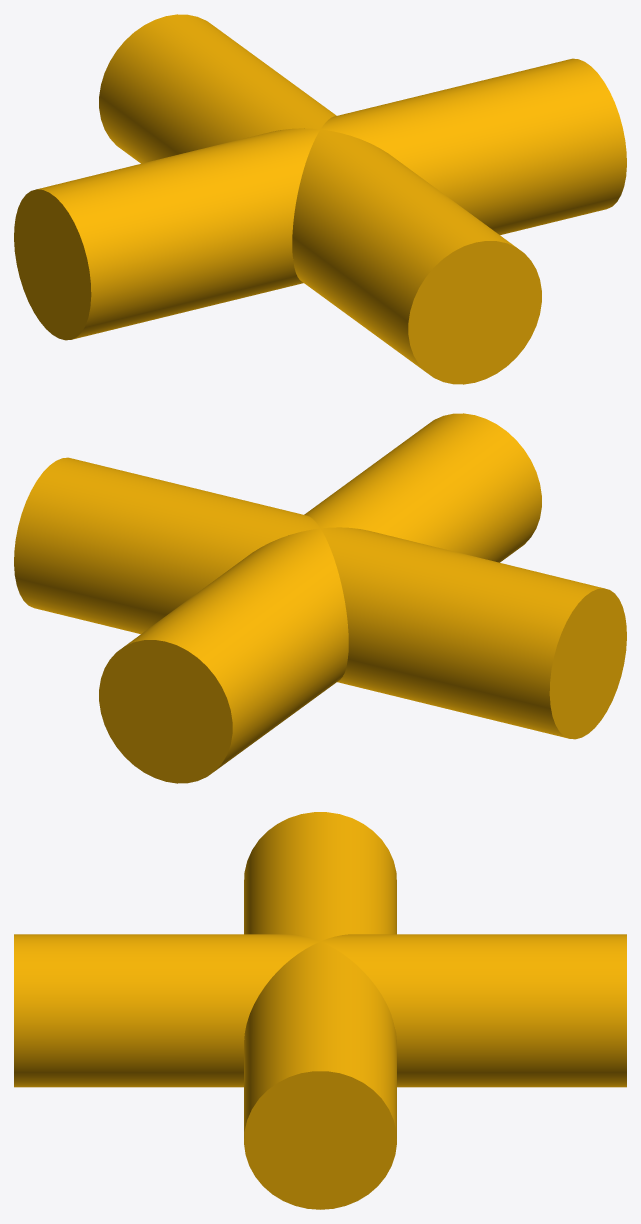
Rendered from UJ_Shaft.dae.
The picture shows the model from 3 angles, top to bottom: view 1: azimuth 30°, elevation 25°; view 2: azimuth 150°, elevation 25°; view 3: azimuth 270°, elevation 25°; orthographic projection.
Parts seen in each view (by area): view 1: UJ Shaft; view 2: UJ Shaft; view 3: UJ Shaft.
Boxes of the visible parts, x1=… form: UJ Shaft: x1=14, y1=14, x2=626, y2=384; UJ Shaft: x1=14, y1=413, x2=626, y2=783; UJ Shaft: x1=14, y1=812, x2=626, y2=1209.
Bounding box in the file's own units: 0.4 × 0.4 × 0.1.
